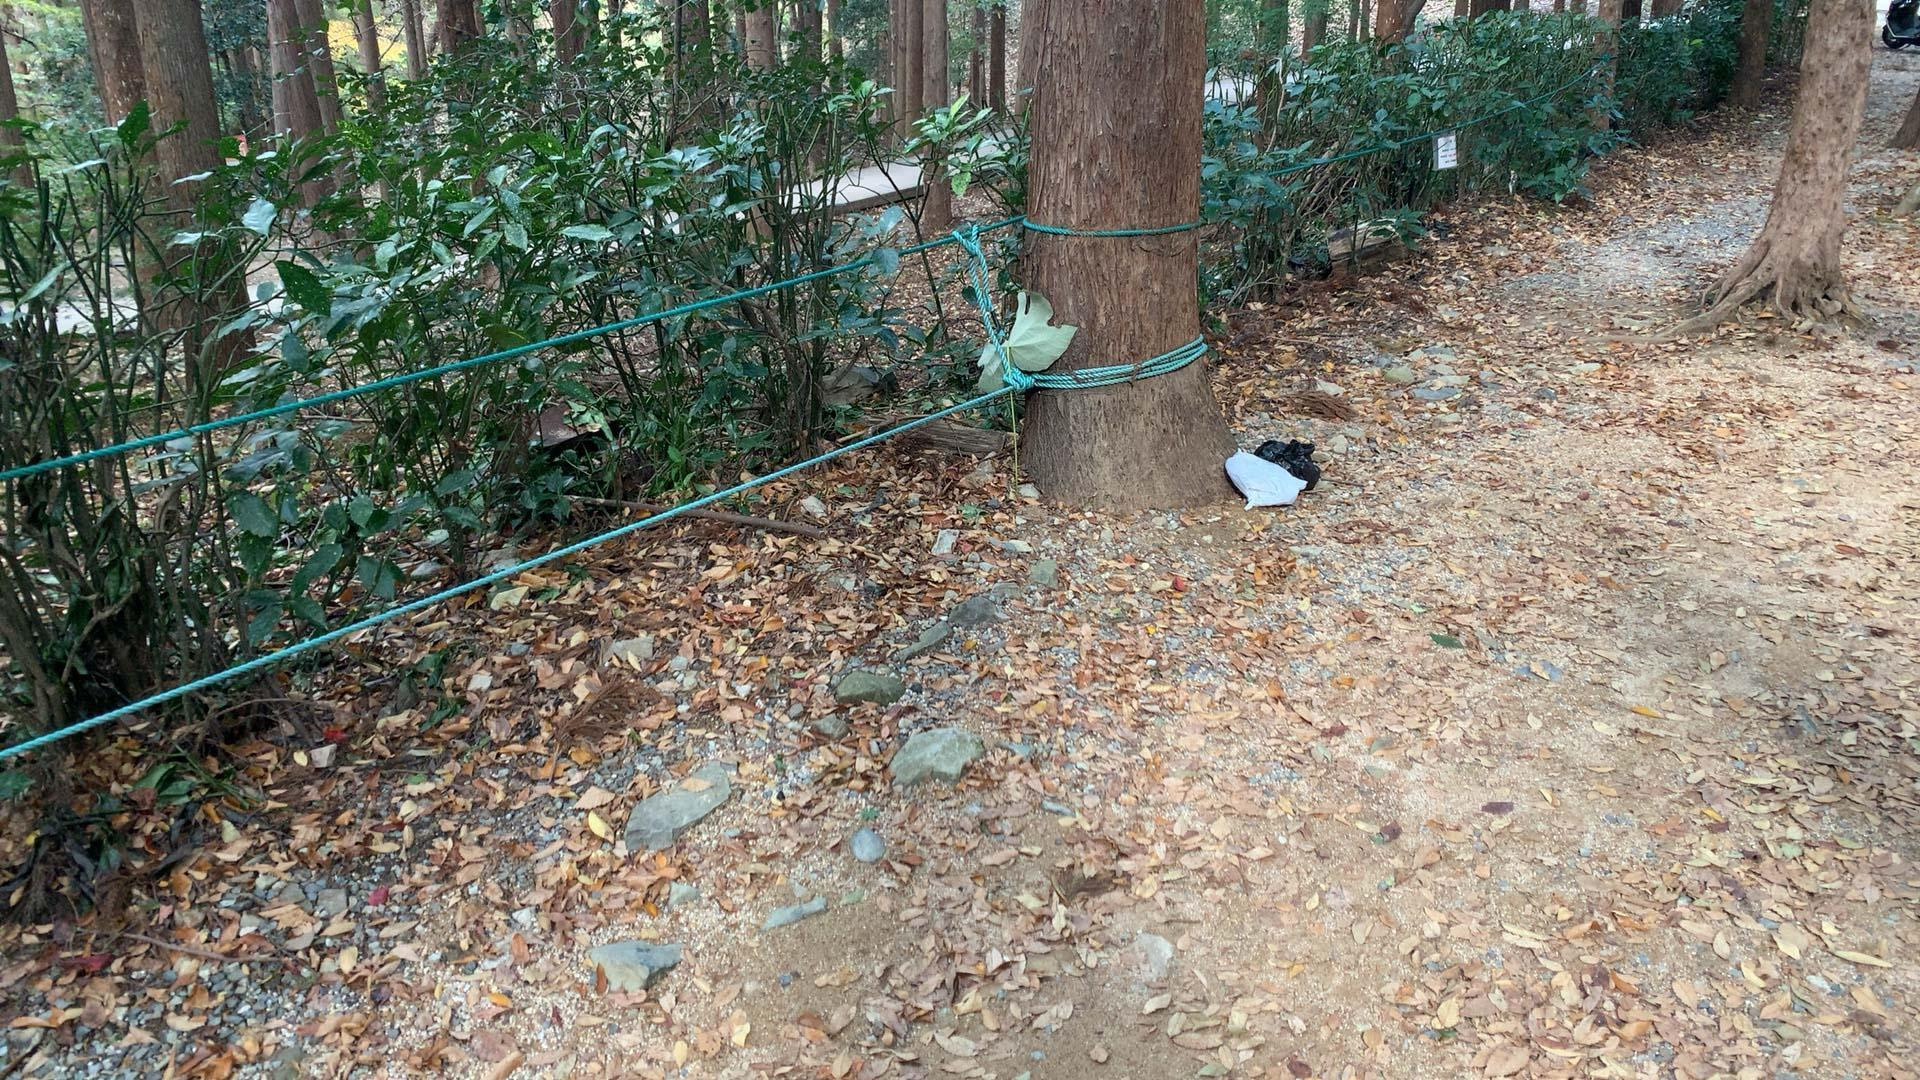black_bag: (1254, 434, 1323, 495)
white_bag: (1220, 446, 1309, 512)
